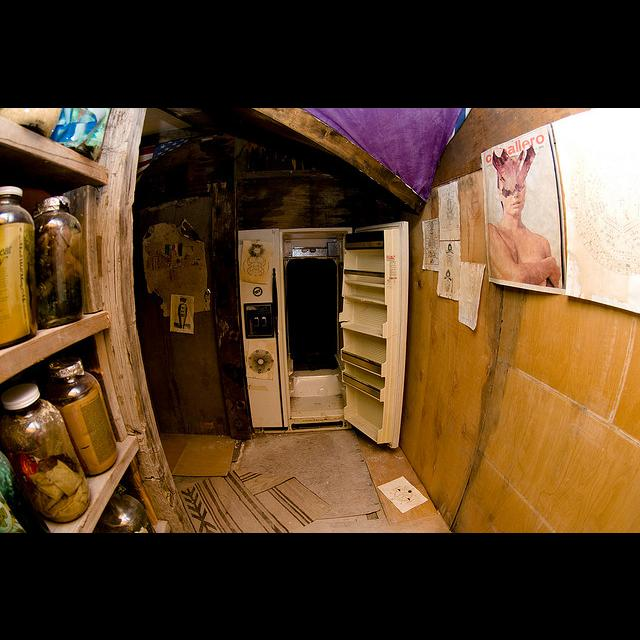Refrigerator: (237, 221, 409, 449)
